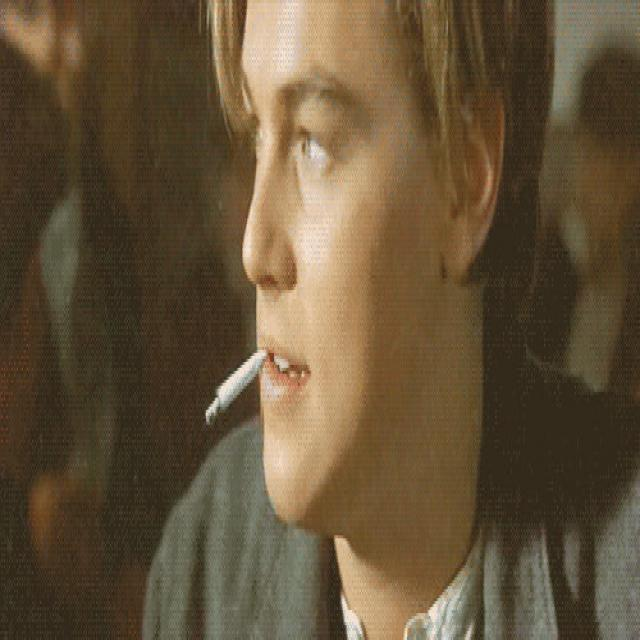smoke: (197, 344, 267, 428)
